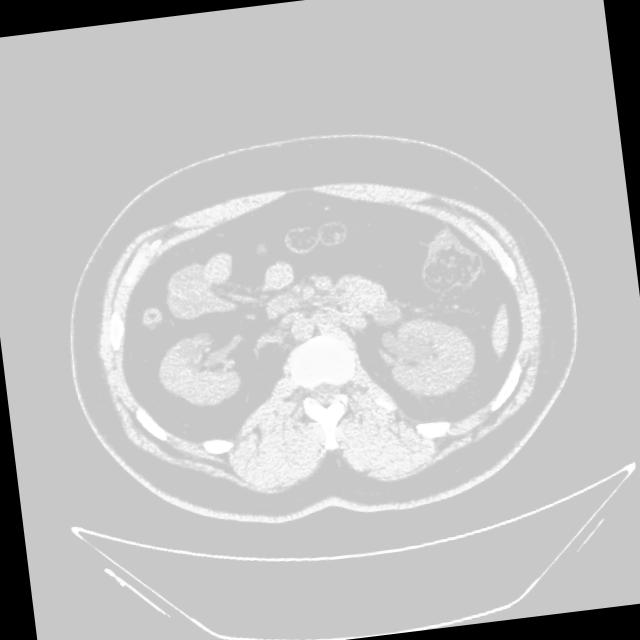cysts: (50, 108, 597, 549)
